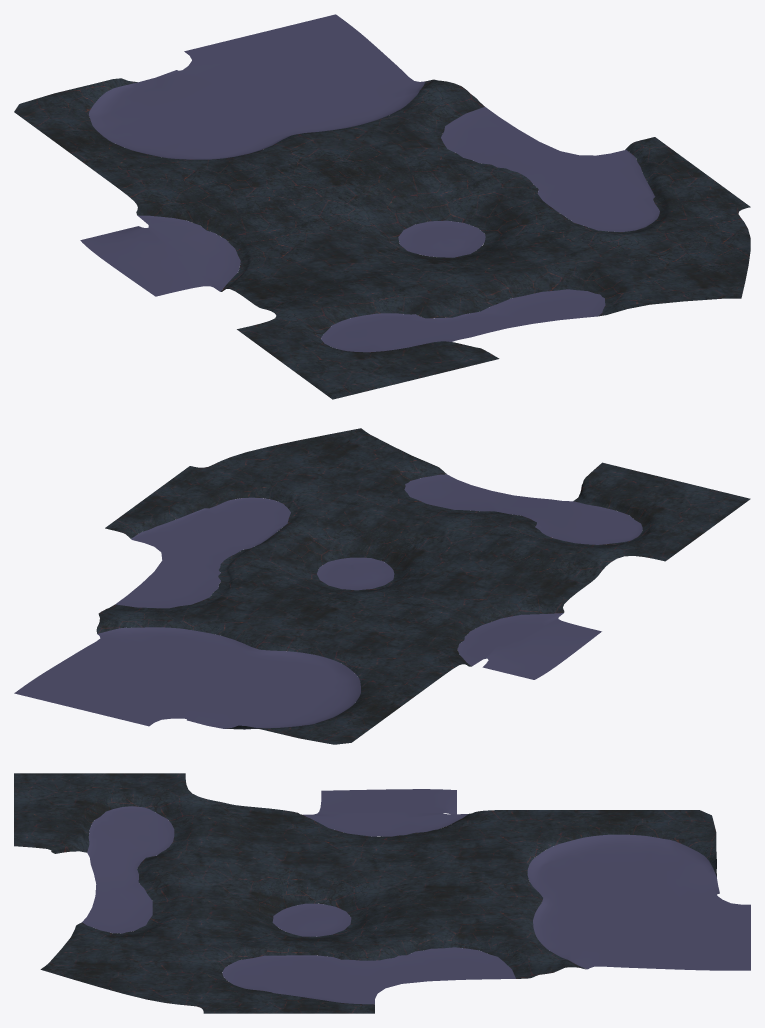
3 views of the same model, one above another, from view 1: azimuth 30°, elevation 25°; view 2: azimuth 150°, elevation 25°; view 3: azimuth 270°, elevation 25° (orthographic). The views are drawn at different scales.
Visible parts, largest first — view 1: SM_FightCave_Floor_LOD0; view 2: SM_FightCave_Floor_LOD0; view 3: SM_FightCave_Floor_LOD0.
Part boxes in pixels (x1,y1,x2,y2): SM_FightCave_Floor_LOD0: [14, 14, 750, 399]; SM_FightCave_Floor_LOD0: [14, 428, 750, 744]; SM_FightCave_Floor_LOD0: [14, 773, 750, 1013].
Bounding box in the file's own units: 127 × 6.79 × 171.
Materials: 2 (1 with a texture image).
